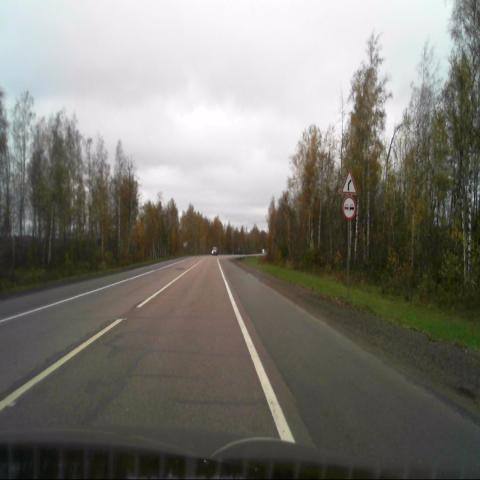1_11: (342, 170, 357, 194)
3_20: (342, 196, 356, 220)
